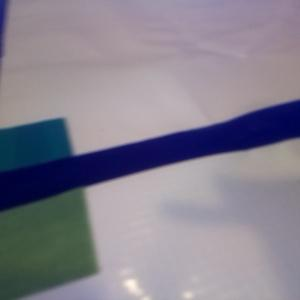bottom_right: (1, 171, 99, 299)
top_right: (1, 118, 73, 189)
